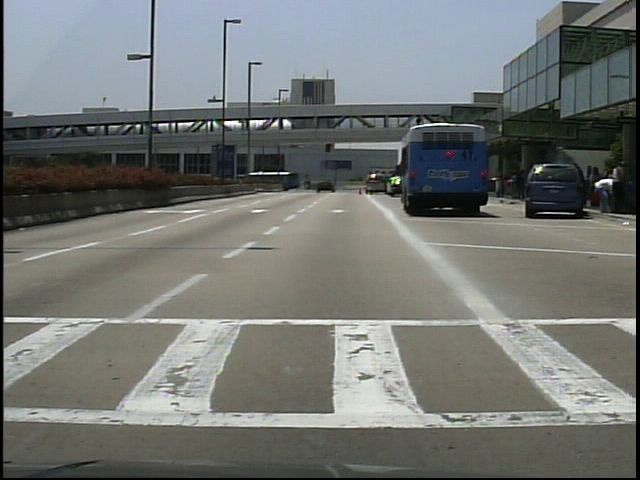person: (595, 172, 620, 214), (585, 162, 601, 212), (516, 167, 528, 203), (304, 178, 314, 193)
